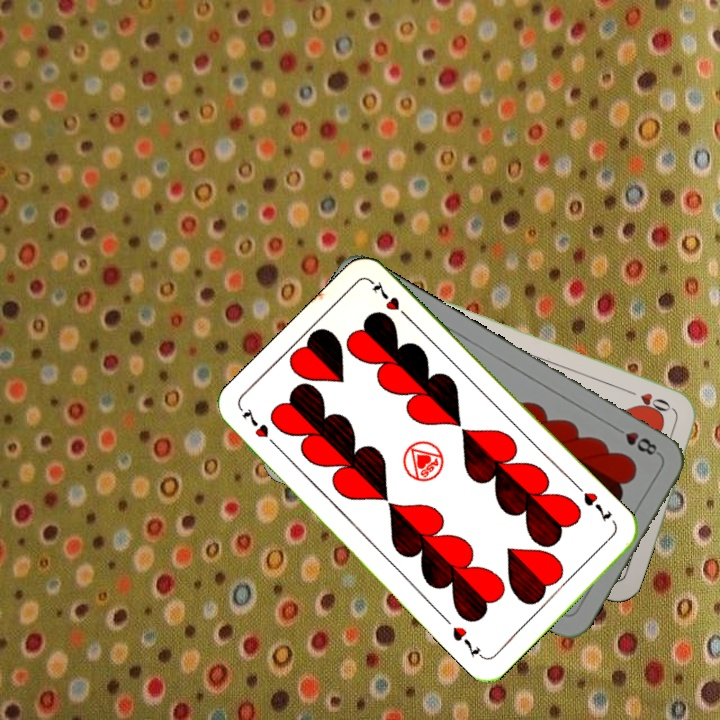H7: (238, 404, 283, 452), (579, 488, 615, 524)
H8: (609, 422, 663, 458)
HO: (620, 384, 677, 414)
